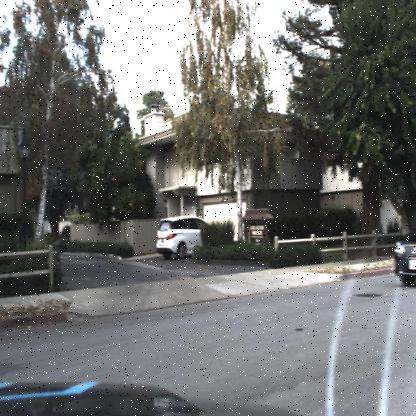car: (156, 217, 206, 258), (395, 233, 416, 287)
